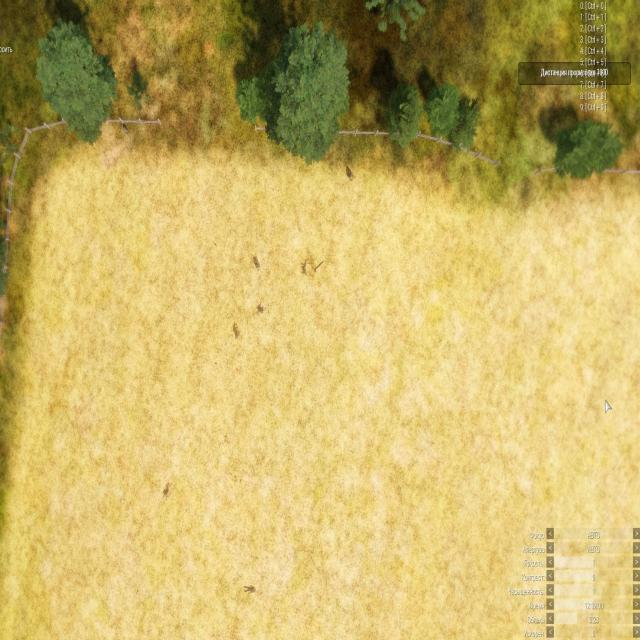infantry: (338, 156, 380, 204), (237, 577, 269, 613), (296, 250, 324, 290), (157, 473, 182, 509), (226, 322, 245, 354), (245, 248, 266, 276), (251, 296, 269, 318)
